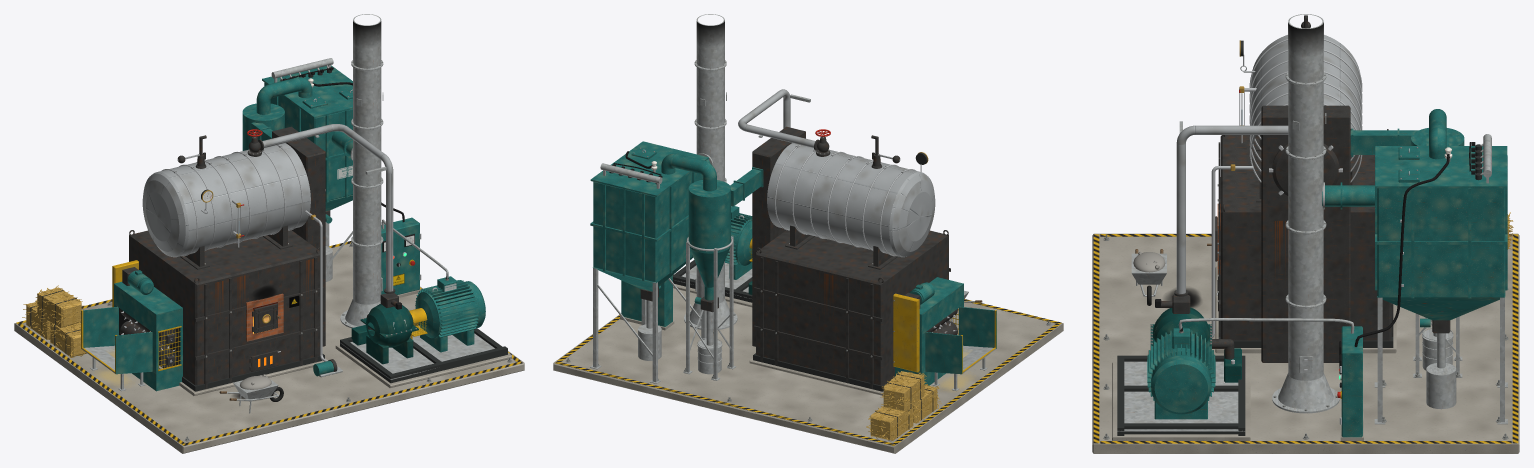
Rendered from StrawGenerator.glb.
3 views of the same model, side by side, from view 1: azimuth 30°, elevation 25°; view 2: azimuth 150°, elevation 25°; view 3: azimuth 270°, elevation 25° (orthographic). The views are drawn at different scales.
Visible parts, largest first — view 1: SG_Foundation_Concrete, SG_Furnace_Iron, SG_Boiler_Lagging, SG_Chimney_Galv, SG_Filter_Teal, SG_Feeder_Teal, SG_Boiler_Iron, SG_Generator_Teal, SG_Details_Straw, SG_Engine_EngineTeal, SG_Engine_Dark, SG_Engine_Galv (+12 smaller); view 2: SG_Foundation_Concrete, SG_Furnace_Iron, SG_Filter_Teal, SG_Boiler_Lagging, SG_Filter_Galv, SG_Feeder_Teal, SG_Chimney_Galv, SG_Boiler_Iron, SG_Details_Straw, SG_Foundation_Hazard, SG_Feeder_Guard, SG_Boiler_Steel (+6 smaller); view 3: SG_Foundation_Concrete, SG_Filter_Teal, SG_Chimney_Galv, SG_Boiler_Iron, SG_Furnace_Iron, SG_Boiler_Lagging, SG_Generator_Teal, SG_Filter_Galv, SG_Foundation_Hazard, SG_Engine_Galv, SG_Engine_Dark, SG_Controls_Teal (+10 smaller).
Part boxes in pixels (x1,y1,x2,y2): SG_Foundation_Concrete: [14, 243, 524, 453]; SG_Furnace_Iron: [129, 230, 323, 389]; SG_Boiler_Lagging: [142, 124, 393, 291]; SG_Chimney_Galv: [340, 14, 383, 328]; SG_Filter_Teal: [242, 65, 352, 223]; SG_Feeder_Teal: [81, 270, 182, 391]; SG_Boiler_Iron: [177, 126, 395, 346]; SG_Generator_Teal: [415, 276, 485, 352]; SG_Details_Straw: [22, 285, 86, 357]; SG_Engine_EngineTeal: [351, 304, 418, 364]; SG_Engine_Dark: [340, 322, 507, 383]; SG_Engine_Galv: [319, 325, 494, 379]; SG_Foundation_Concrete: [553, 284, 1063, 453]; SG_Furnace_Iron: [754, 230, 950, 389]; SG_Filter_Teal: [590, 141, 763, 304]; SG_Boiler_Lagging: [738, 89, 935, 257]; SG_Filter_Galv: [590, 163, 736, 383]; SG_Feeder_Teal: [895, 277, 996, 385]; SG_Chimney_Galv: [684, 14, 737, 329]; SG_Boiler_Iron: [752, 126, 900, 346]; SG_Details_Straw: [866, 371, 941, 440]; SG_Foundation_Hazard: [555, 299, 1061, 445]; SG_Feeder_Guard: [893, 293, 996, 373]; SG_Boiler_Steel: [775, 132, 921, 256]; SG_Foundation_Concrete: [1092, 233, 1519, 453]; SG_Filter_Teal: [1322, 109, 1507, 327]; SG_Chimney_Galv: [1272, 14, 1339, 413]; SG_Boiler_Iron: [1174, 15, 1352, 362]; SG_Furnace_Iron: [1215, 129, 1393, 340]; SG_Boiler_Lagging: [1176, 35, 1361, 293]; SG_Generator_Teal: [1147, 328, 1215, 419]; SG_Filter_Galv: [1374, 134, 1507, 424]; SG_Foundation_Hazard: [1093, 234, 1518, 443]; SG_Engine_Galv: [1117, 361, 1244, 431]; SG_Engine_Dark: [1117, 355, 1245, 435]; SG_Controls_Teal: [1341, 326, 1362, 437].
Size of what is drawn, in the model's own units: 14 by 12 by 12.
Materials: 42 (26 with a texture image).
